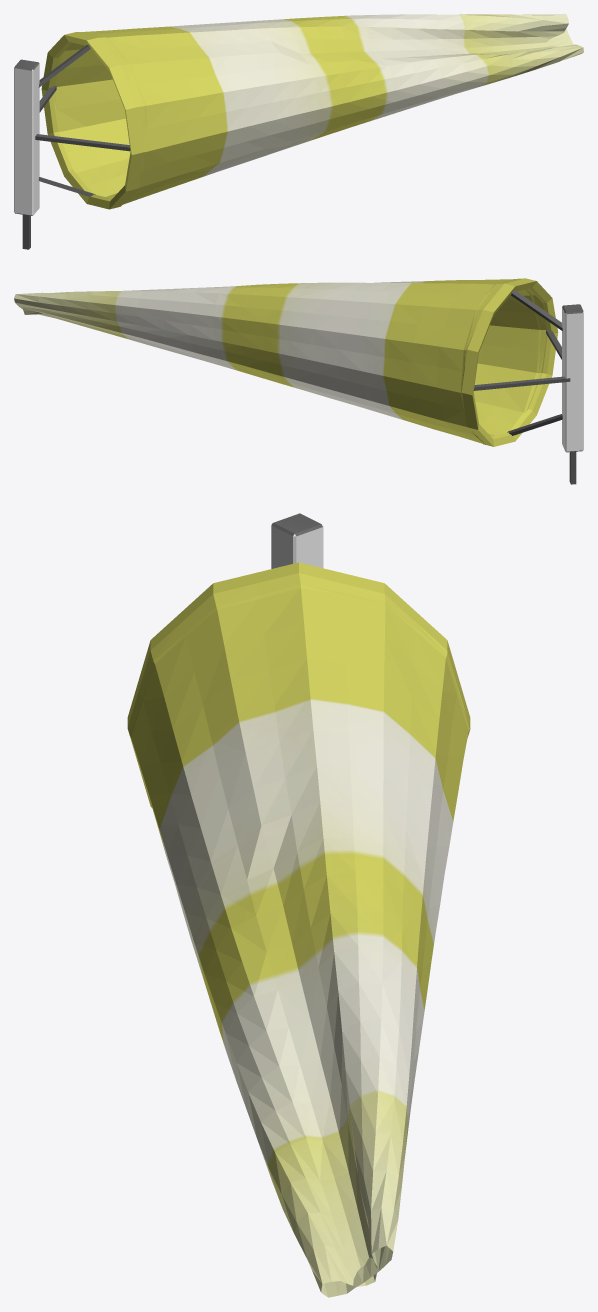
3 renders of one model, top to bottom at view 1: azimuth 30°, elevation 25°; view 2: azimuth 150°, elevation 25°; view 3: azimuth 270°, elevation 25°, orthographic. The views are drawn at different scales.
Visible parts, largest first — view 1: WS-4.obj; view 2: WS-4.obj; view 3: WS-4.obj.
Part boxes in pixels (box(x1,y1,x2,y2)): WS-4.obj: box(14, 14, 583, 249); WS-4.obj: box(14, 278, 583, 484); WS-4.obj: box(127, 513, 470, 1297).
Size of the model in its own units: 5.3 by 1.7 by 1.44.
